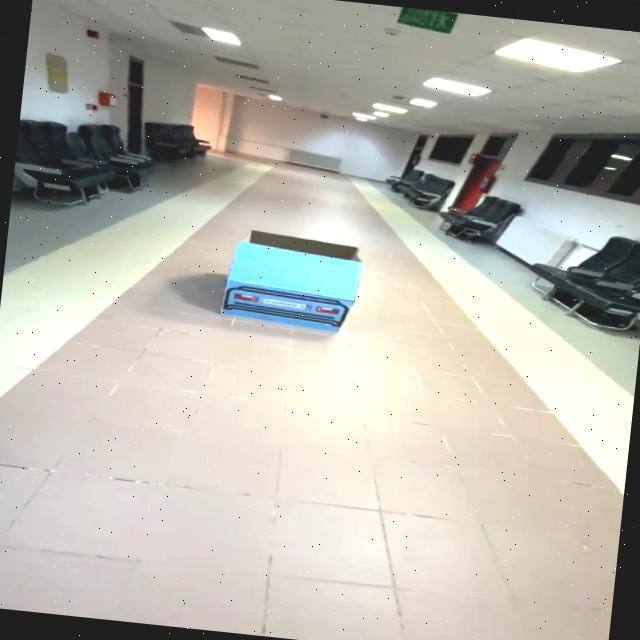blue_car: (182, 216, 379, 338)
